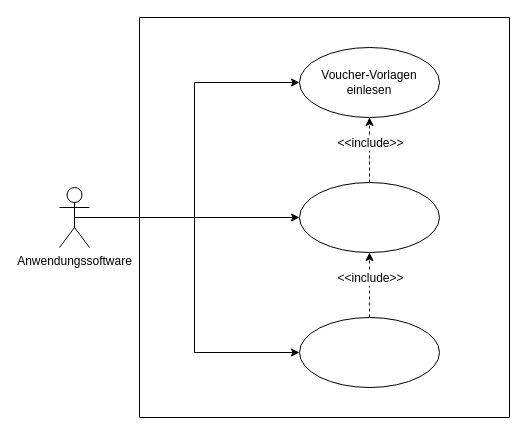
The diagram is 527 pixels wide and 435 high, and some of its shapes have lost their labels. Here are the shapes that lost their labels. From the top down, the centre of each, then its label:
[369,217]: Voucher erkennen
[369,352]: Informationen auslesen
